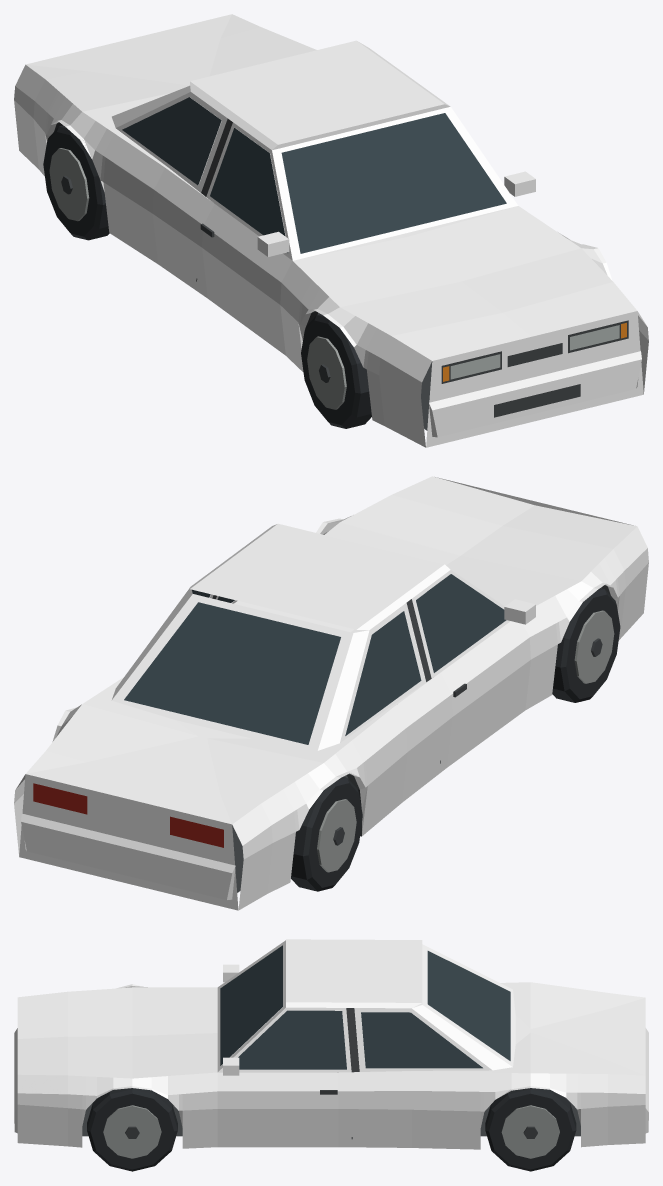
Rendered from calderwood_gale.glb.
The picture shows the model from 3 angles, top to bottom: view 1: azimuth 30°, elevation 25°; view 2: azimuth 150°, elevation 25°; view 3: azimuth 270°, elevation 25°; orthographic projection. The views are drawn at different scales.
Visible parts, largest first — view 1: calderwood_gale; view 2: calderwood_gale; view 3: calderwood_gale.
Boxes of the visible parts, left/top/right/bottom form: calderwood_gale: left=14, top=14, right=648, bottom=447; calderwood_gale: left=14, top=476, right=648, bottom=910; calderwood_gale: left=14, top=939, right=648, bottom=1171.
Bounding box in the file's own units: 1.82 × 1.24 × 4.7.
Materials: 8 (1 with a texture image).
